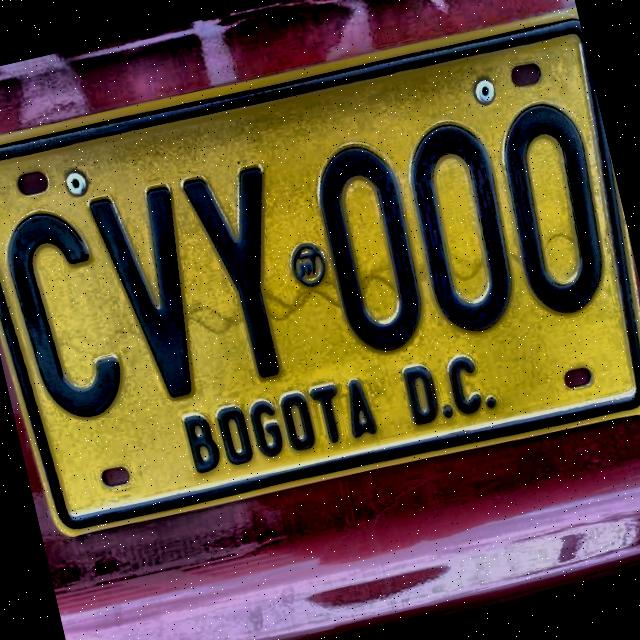plate: (0, 7, 640, 540)
